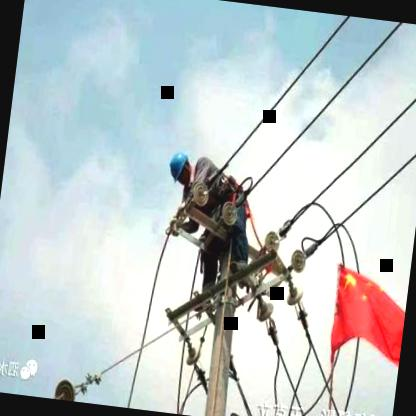helmet: (164, 147, 196, 189)
